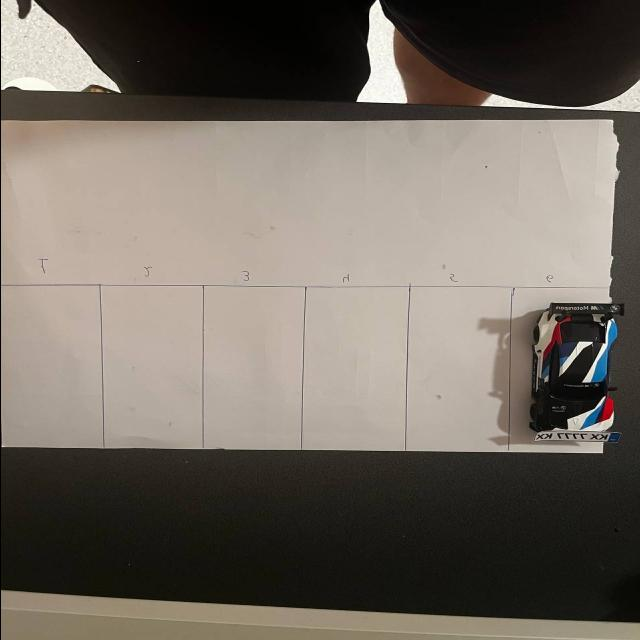cars: (512, 279, 626, 450)
